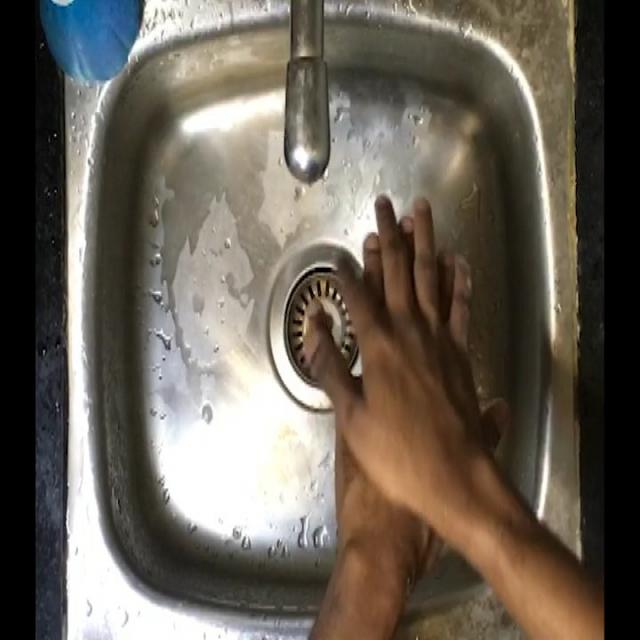step_2: (297, 180, 511, 548)
